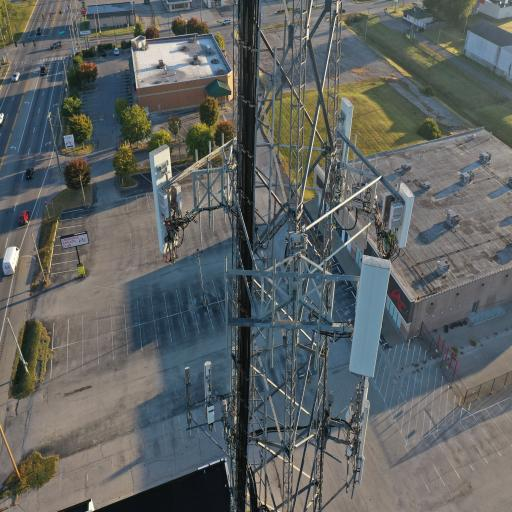supporting_tower: (141, 0, 409, 512)
